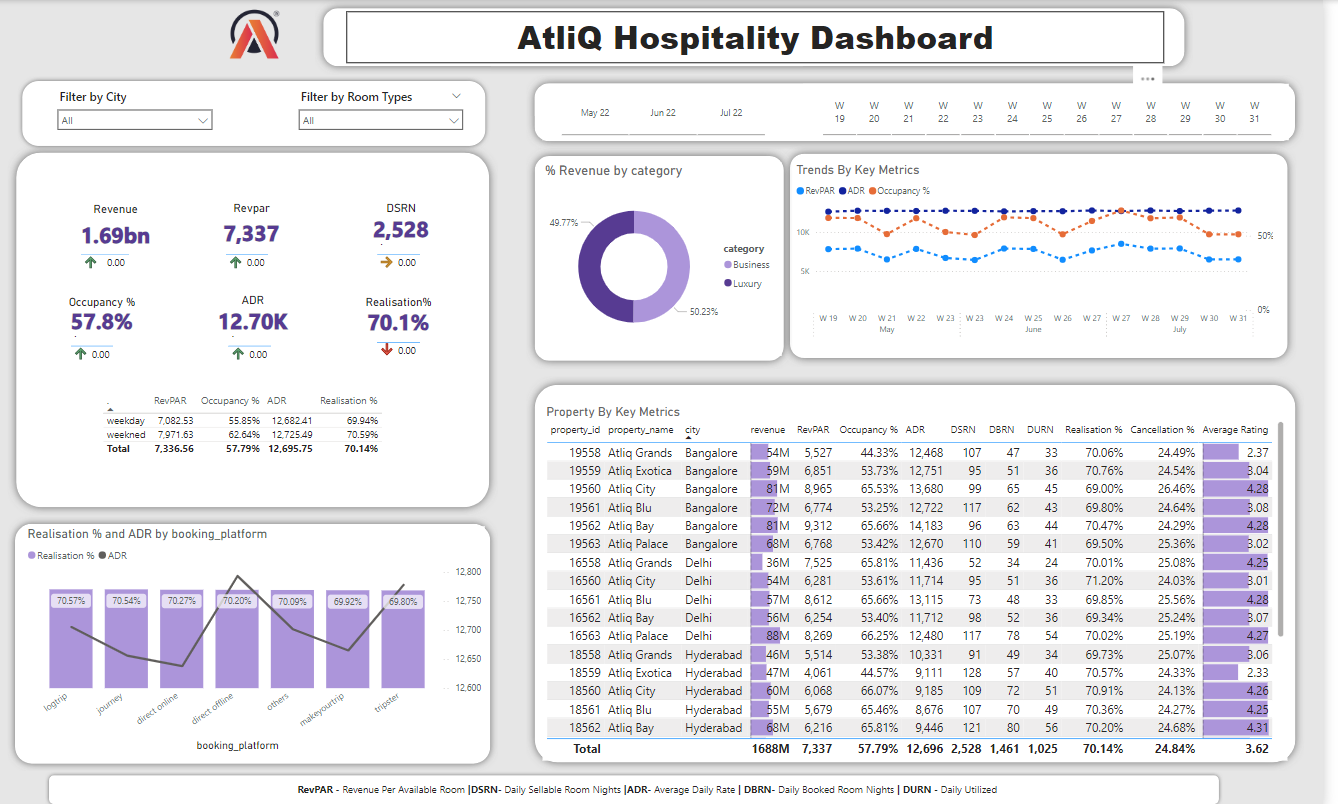

Layout of this report page (visuals, bound fields, positions):
{"tool":"powerbi","page":{"name":"Main Dashboard","canvas":[1800,1100],"ordinal":1},"visuals":[{"type":"shape","box":[429.3,0,1194.1,101.2],"z":0},{"type":"shape","box":[10.3,702.4,667,346.8],"z":1000},{"type":"shape","box":[62,1049.2,1602.6,50.2],"z":2000},{"type":"shape","box":[715.7,512.1,1058,537.1],"z":3000},{"type":"shape","box":[1062.8,197.8,700.7,301.7],"z":4000},{"type":"shape","box":[715.8,201.2,362.1,301.7],"z":5000},{"type":"shape","box":[10.1,196.1,667.2,506.2],"z":6000},{"type":"shape","box":[716.1,101.2,1057.3,101.2],"z":7000},{"type":"shape","box":[24.4,103.1,643,101.2],"z":8000},{"type":"slicer","fields":{"Values":["dim_hotels.city"]},"box":[67.5,116.2,230.6,76.9],"z":9000},{"type":"slicer","fields":{"Values":["dim_rooms.room_class"]},"box":[395.5,116.2,243.7,76.9],"z":10000},{"type":"tableEx","title":" Property By Key Metrics","fields":{"Values":["dim_hotels.property_id","dim_hotels.property_name","dim_hotels.city","key_measures.revenue","key_measures.RevPAR","key_measures.Occupancy %","key_measures.ADR","key_measures.DSRN","key_measures.DBRN","key_measures.DURN","key_measures.Realisation %","key_measures.Cancellation %"]},"box":[738,549.6,1013.8,485.5],"z":11000},{"type":"slicer","fields":{"Values":["dim_date.mmm yy"]},"box":[738.6,116.2,326.2,75],"z":12000},{"type":"slicer","fields":{"Values":["dim_date.week no"]},"box":[1092.9,114.3,659.9,76.9],"z":13000},{"type":"tableEx","fields":{"Values":["key_measures.\"Revenue WoW change %"]},"box":[104.1,312.7,80.4,63.3],"z":14000},{"type":"card","title":"Revenue","fields":{"Values":["key_measures.revenue"]},"box":[90.5,274.9,134.1,70.4],"z":15000},{"type":"donutChart","title":" % Revenue by category","fields":{"Y":["key_measures.Occupancy %"],"Category":["dim_hotels.category"]},"box":[735.9,221.3,326.9,263.2],"z":16000},{"type":"lineStackedColumnComboChart","fields":{"Category":["fact_bookings.booking_platform"],"Y":["key_measures.Realisation %"],"Y2":["key_measures.ADR"]},"box":[32.9,715.6,627.3,311],"z":17000},{"type":"tableEx","fields":{"Values":["dim_date.day_type","key_measures.RevPAR","key_measures.Occupancy %","key_measures.ADR","key_measures.Realisation %"]},"box":[134.4,530.1,461.3,142.3],"z":18000},{"type":"tableEx","fields":{"Values":["key_measures.\"Realisation WoW change %"]},"box":[506.1,431.3,79.1,72.5],"z":19000},{"type":"tableEx","fields":{"Values":["key_measures.\"ADR WoW change %"]},"box":[305.1,437.9,77.8,63.3],"z":20000},{"type":"tableEx","fields":{"Values":["key_measures.\"Revpar WoW change %"]},"box":[300.5,312.7,80.4,63.3],"z":21000},{"type":"tableEx","fields":{"Values":["key_measures.\"DSRN WoW change %"]},"box":[506.1,312.7,77.8,63.3],"z":22000},{"type":"card","title":"Revpar","fields":{"Values":["key_measures.RevPAR"]},"box":[287.3,273.1,109.4,68.5],"z":23000},{"type":"card","title":"DSRN","fields":{"Values":["key_measures.DSRN"]},"box":[494.2,273.1,101.5,58],"z":24000},{"type":"card","title":"Realisation%","fields":{"Values":["key_measures.Realisation %"]},"box":[487.6,401,108.1,56.7],"z":25000},{"type":"card","title":"ADR","fields":{"Values":["key_measures.ADR"]},"box":[289.3,399.6,109.4,56.7],"z":26000},{"type":"textbox","box":[399.9,1059.5,1002,28],"z":27000},{"type":"lineChart","title":"Trends By Key Metrics","fields":{"Category":["dim_date.mmm yy.Variation.Date Hierarchy.Month","dim_date.week no"],"Y":["key_measures.RevPAR","key_measures.ADR"],"Y2":["key_measures.Occupancy %"]},"box":[1077.9,221.3,658.8,248.1],"z":28000},{"type":"tableEx","fields":{"Values":["key_measures.\"Occupancy WoW change %"]},"box":[90.3,436.7,94,66.3],"z":29000},{"type":"card","title":"Occupancy %","fields":{"Values":["key_measures.Occupancy %"]},"box":[85.2,401.3,107.1,54.4],"z":30000},{"type":"image","box":[290.6,7.5,112.5,78.7],"z":31000},{"type":"textbox","box":[470.5,15,1113.5,71.2],"z":32000}]}

Visuals, with their boxes in screenshot pixels (x1, y1, x2, y2), scaled from the page's 1800x1100 canvas onto the 1338x804 screenshot:
shape: pyautogui.locateOnScreen(319, 0, 1207, 74)
shape: pyautogui.locateOnScreen(8, 513, 503, 767)
shape: pyautogui.locateOnScreen(46, 767, 1237, 803)
shape: pyautogui.locateOnScreen(532, 374, 1318, 767)
shape: pyautogui.locateOnScreen(790, 145, 1311, 365)
shape: pyautogui.locateOnScreen(532, 147, 801, 368)
shape: pyautogui.locateOnScreen(8, 143, 503, 513)
shape: pyautogui.locateOnScreen(532, 74, 1318, 148)
shape: pyautogui.locateOnScreen(18, 75, 496, 149)
slicer - dim_hotels.city: pyautogui.locateOnScreen(50, 85, 222, 141)
slicer - dim_rooms.room_class: pyautogui.locateOnScreen(294, 85, 475, 141)
" Property By Key Metrics" tableEx: pyautogui.locateOnScreen(549, 402, 1302, 757)
slicer - dim_date.mmm yy: pyautogui.locateOnScreen(549, 85, 792, 140)
slicer - dim_date.week no: pyautogui.locateOnScreen(812, 84, 1303, 140)
tableEx - key_measures."Revenue WoW change %: pyautogui.locateOnScreen(77, 229, 137, 275)
"Revenue" card: pyautogui.locateOnScreen(67, 201, 167, 252)
" % Revenue by category" donutChart: pyautogui.locateOnScreen(547, 162, 790, 354)
lineStackedColumnComboChart - fact_bookings.booking_platform x key_measures.Realisation %: pyautogui.locateOnScreen(24, 523, 491, 750)
tableEx - dim_date.day_type x key_measures.RevPAR: pyautogui.locateOnScreen(100, 387, 443, 491)
tableEx - key_measures."Realisation WoW change %: pyautogui.locateOnScreen(376, 315, 435, 368)
tableEx - key_measures."ADR WoW change %: pyautogui.locateOnScreen(227, 320, 285, 366)
tableEx - key_measures."Revpar WoW change %: pyautogui.locateOnScreen(223, 229, 283, 275)
tableEx - key_measures."DSRN WoW change %: pyautogui.locateOnScreen(376, 229, 434, 275)
"Revpar" card: pyautogui.locateOnScreen(214, 200, 295, 250)
"DSRN" card: pyautogui.locateOnScreen(367, 200, 443, 242)
"Realisation%" card: pyautogui.locateOnScreen(362, 293, 443, 335)
"ADR" card: pyautogui.locateOnScreen(215, 292, 296, 334)
textbox: pyautogui.locateOnScreen(297, 774, 1042, 795)
"Trends By Key Metrics" lineChart: pyautogui.locateOnScreen(801, 162, 1291, 343)
tableEx - key_measures."Occupancy WoW change %: pyautogui.locateOnScreen(67, 319, 137, 368)
"Occupancy %" card: pyautogui.locateOnScreen(63, 293, 143, 333)
image: pyautogui.locateOnScreen(216, 5, 300, 63)
textbox: pyautogui.locateOnScreen(350, 11, 1177, 63)
